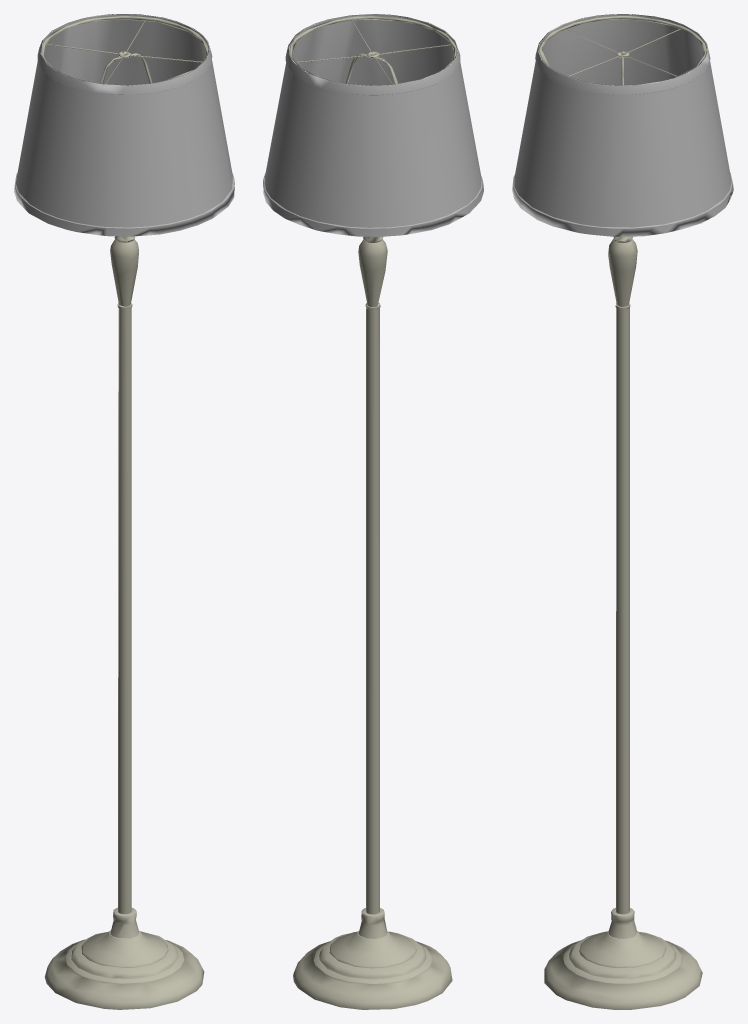
The model's file is abo-B07DBCG1NL.glb.
3 views of the same model, side by side, from view 1: azimuth 30°, elevation 25°; view 2: azimuth 150°, elevation 25°; view 3: azimuth 270°, elevation 25° (orthographic).
Parts seen in each view (by area): view 1: RootNode; view 2: RootNode; view 3: RootNode.
Boxes of the visible parts, <box> form: RootNode: <box>14,14,234,1009</box>; RootNode: <box>263,14,483,1009</box>; RootNode: <box>512,14,733,1009</box>.
Bounding box in the file's own units: 0.3265 × 1.51 × 0.3265.
Materials: 1 (1 with a texture image).
